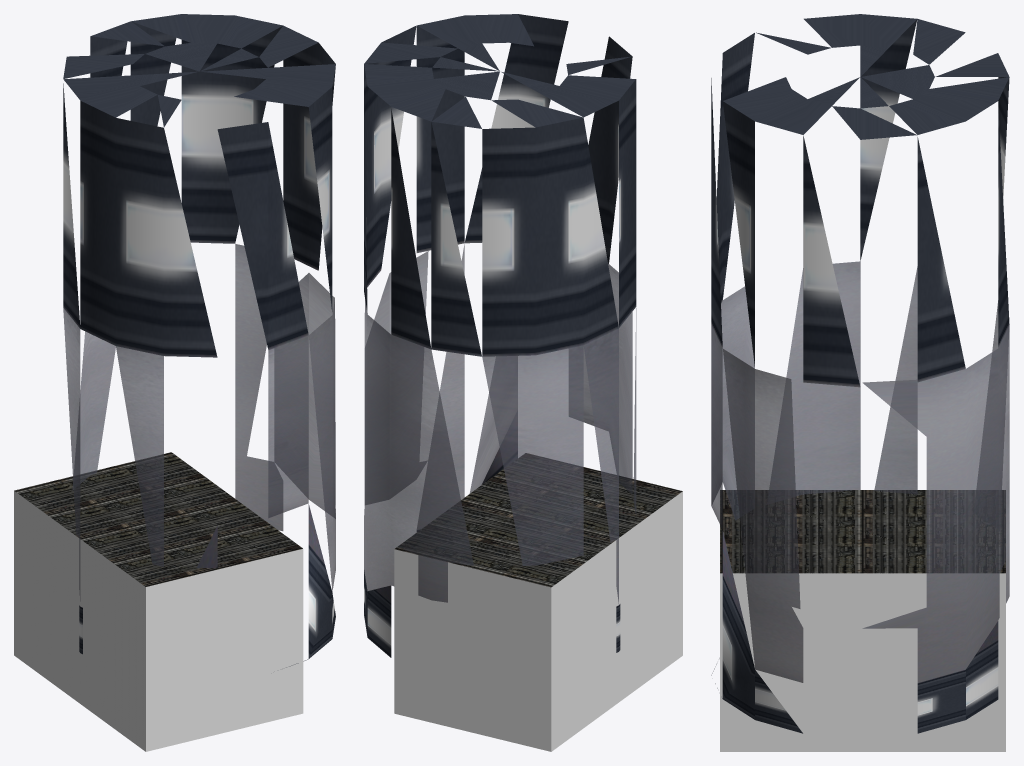
Rendered from bldg_lab_tunnels3.gltf.
3 views of the same model, side by side, from view 1: azimuth 30°, elevation 25°; view 2: azimuth 150°, elevation 25°; view 3: azimuth 270°, elevation 25° (orthographic). The views are drawn at different scales.
Visible parts, largest first — view 1: tube7, cube166; view 2: tube7, cube166; view 3: tube7, cube166.
Part boxes in pixels (left/top/right/bottom): tube7: left=63, top=14, right=335, bottom=667; cube166: left=14, top=452, right=303, bottom=751; tube7: left=364, top=14, right=636, bottom=657; cube166: left=394, top=453, right=682, bottom=751; tube7: left=711, top=14, right=1009, bottom=733; cube166: left=720, top=490, right=1005, bottom=751.
Size of the model in its own units: 12.1 by 29.31 by 12.1.
4 materials, 4 textured.
